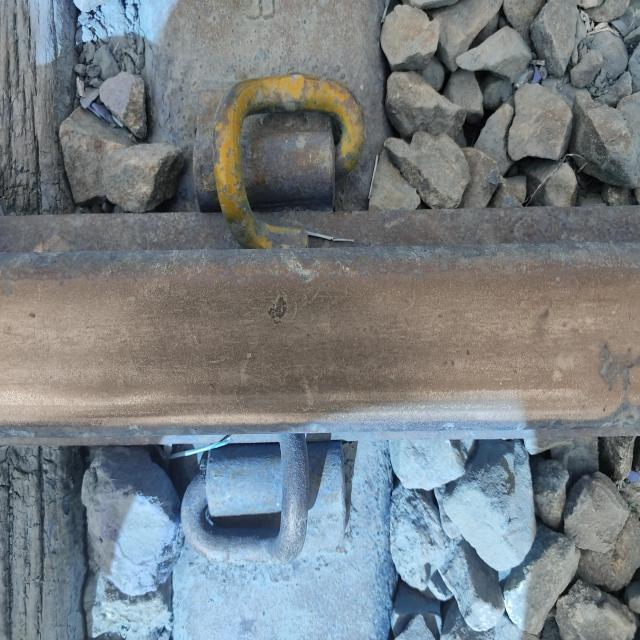Good Fasteners: (182, 80, 409, 256), (177, 446, 356, 568)
